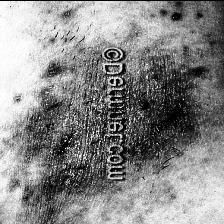Toxin: (0, 43, 195, 204)
